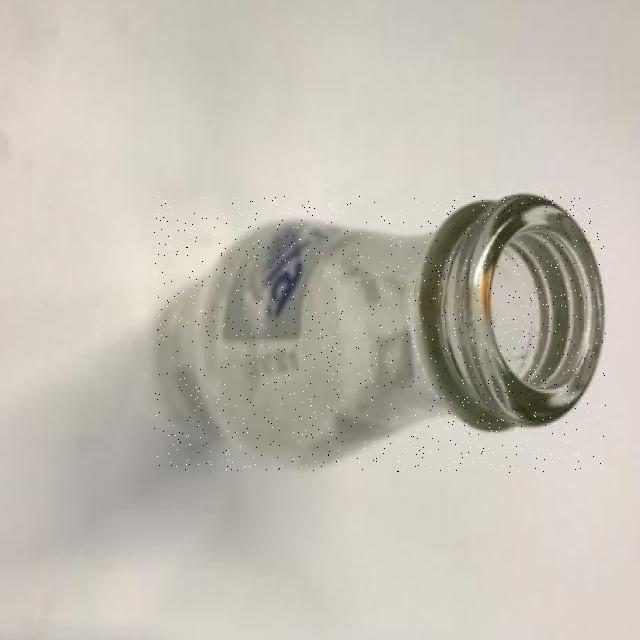glass: (155, 197, 606, 473)
